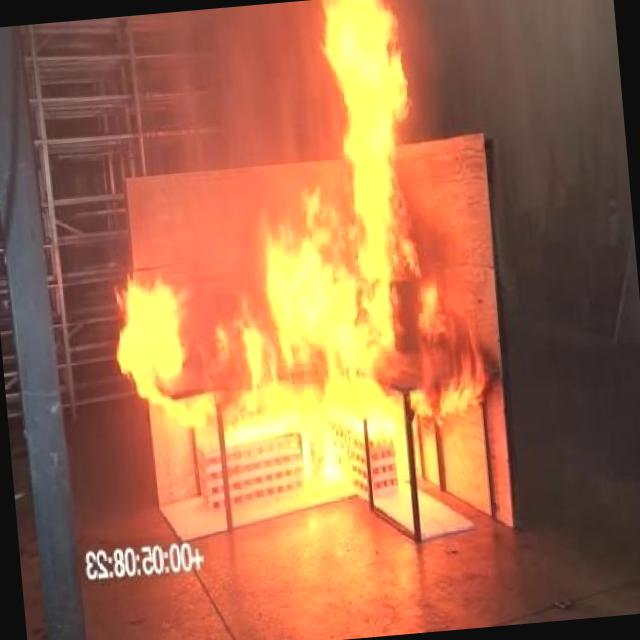fire: (91, 0, 492, 459)
